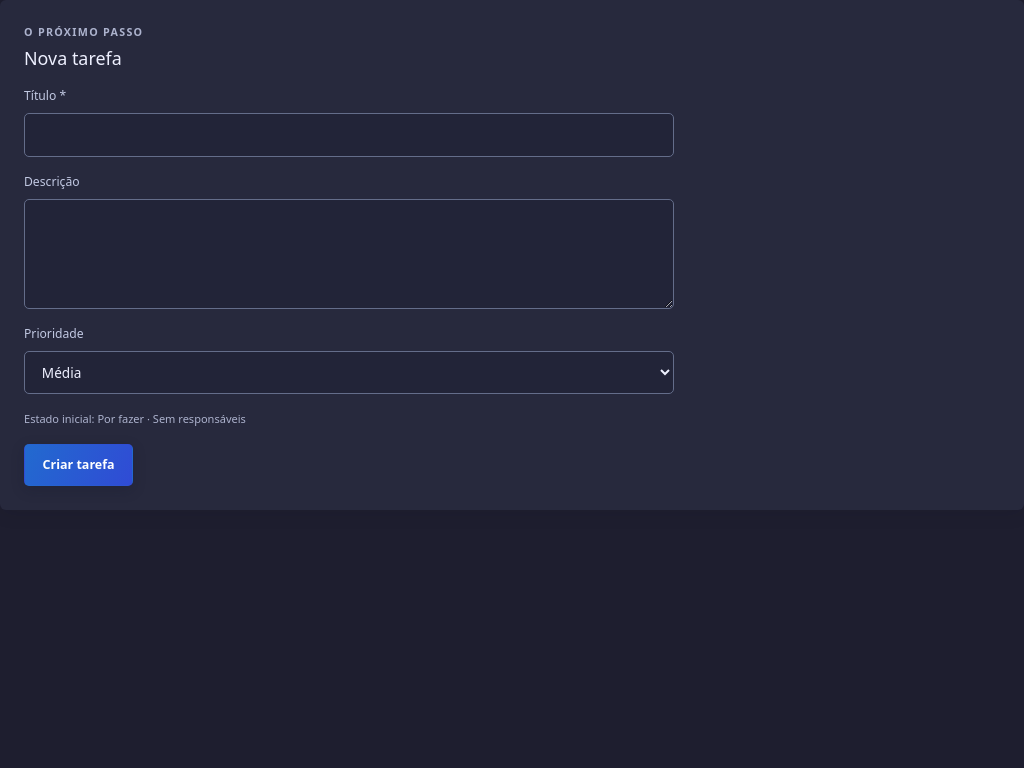
Test: Criação de tarefas › conserva o texto e mostra a falha sem anunciar sucesso
This screenshot has width=1024, height=768.
Type "Texto preservado" into the field labelled "Título *".
click(349, 135); type("Texto preservado")  # box 24,113 -> 674,157
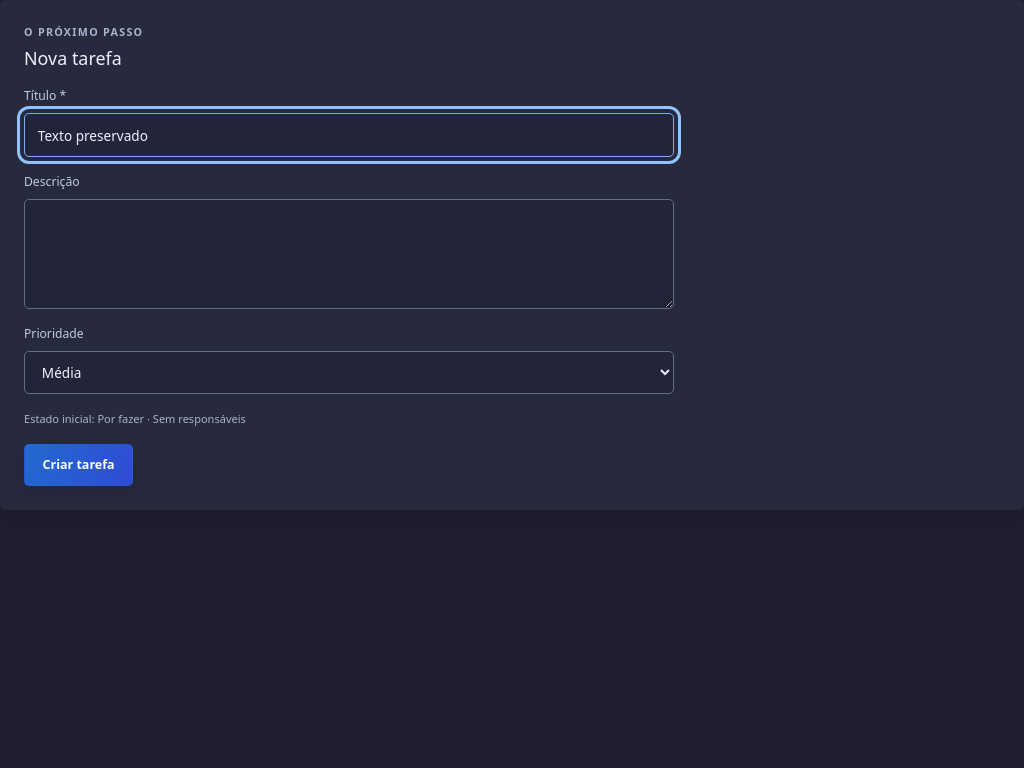
Click the button "Criar tarefa".
click(79, 465)  # box 24,444 -> 133,486
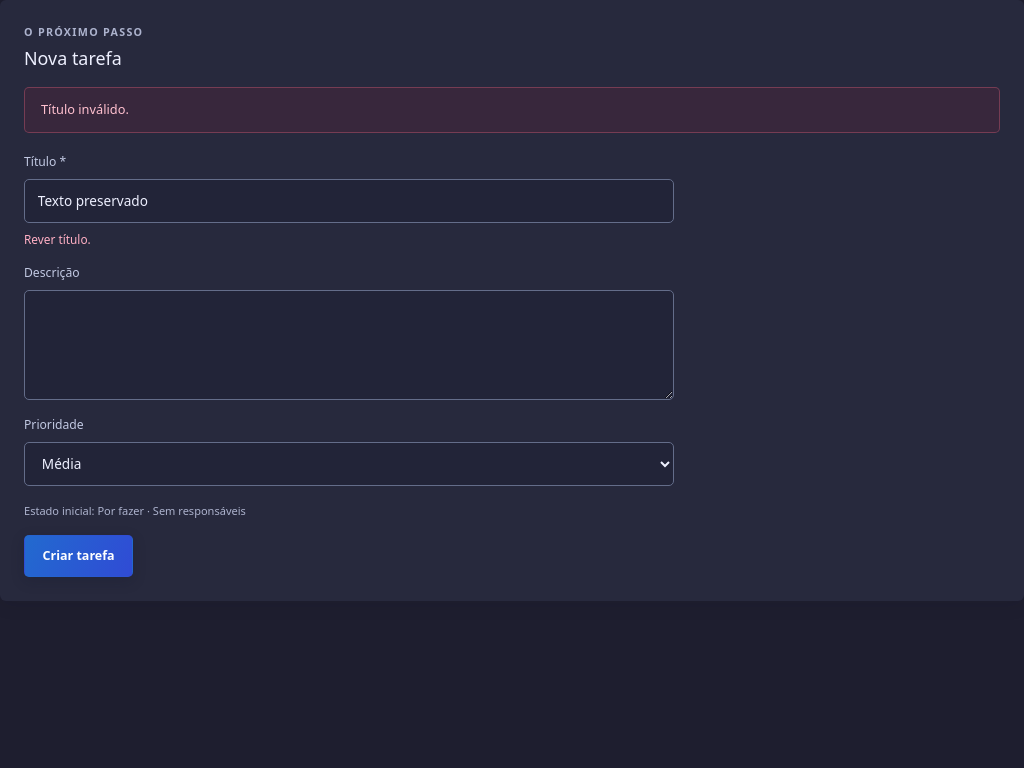
Expected: the text "Título inválido." is shown, 24,87 -> 1000,133
